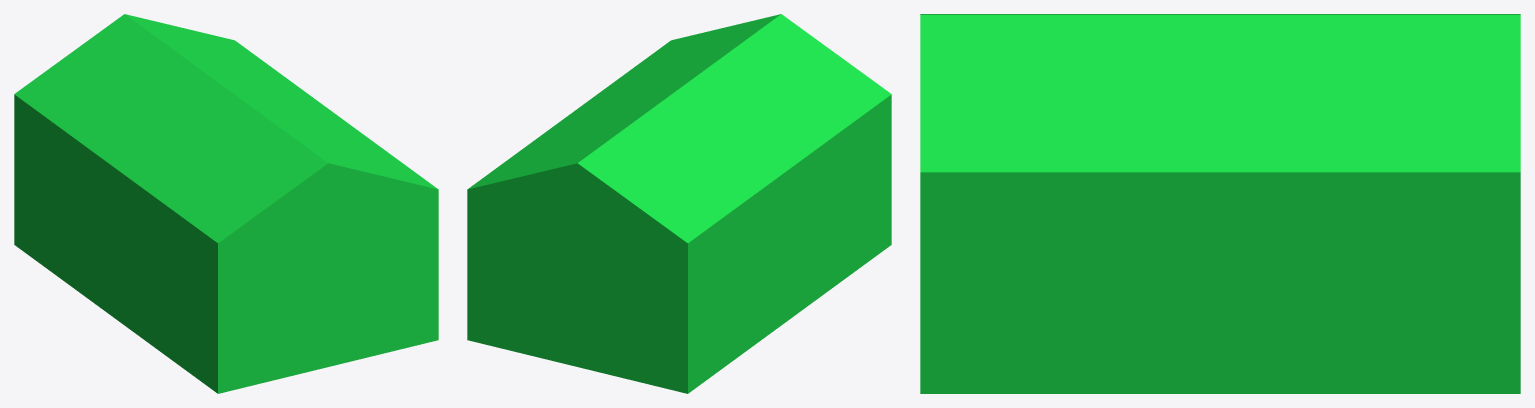
The model's file is casa.fbx.
The picture shows the model from 3 angles, left to right: view 1: azimuth 30°, elevation 25°; view 2: azimuth 150°, elevation 25°; view 3: azimuth 270°, elevation 25°; orthographic projection. The views are drawn at different scales.
Parts seen in each view (by area): view 1: Cube.001; view 2: Cube.001; view 3: Cube.001.
Part boxes in pixels (x1,y1,x2,y2): Cube.001: (14,14,438,393); Cube.001: (467,14,891,393); Cube.001: (920,14,1520,393).
Bounding box in the file's own units: 500 × 441 × 800.
